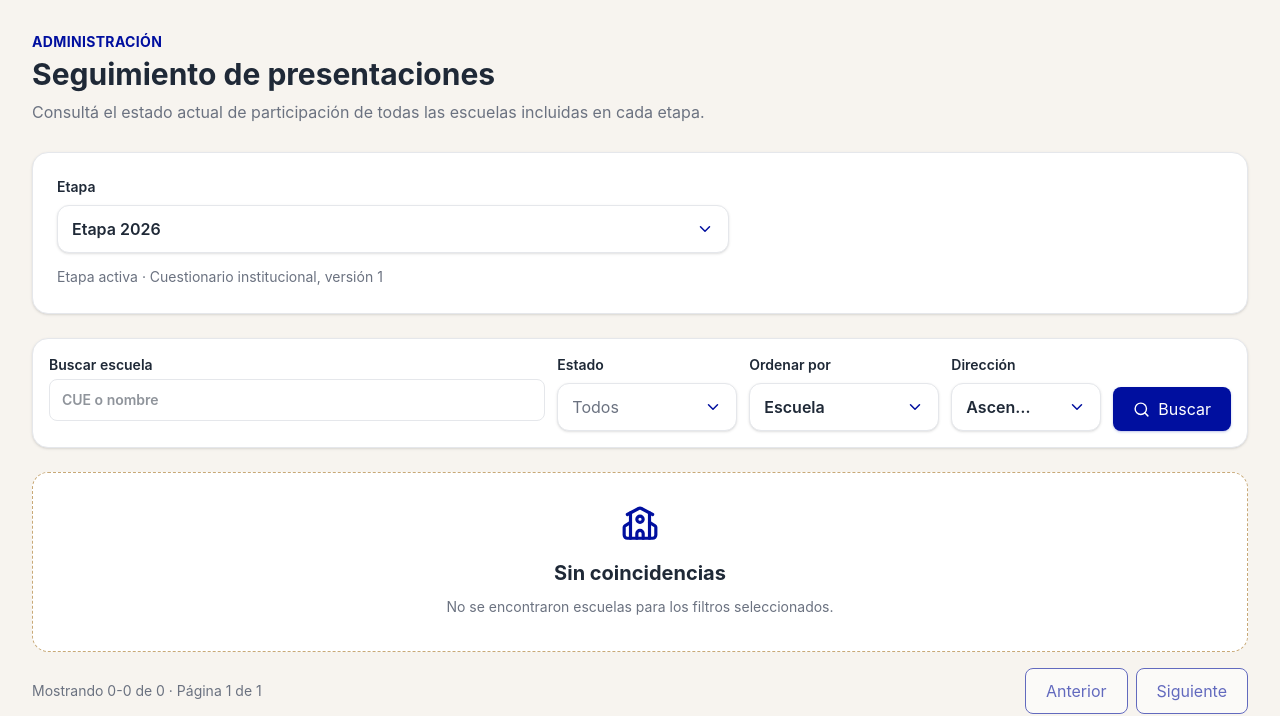
Test: CampaignTrackingPage › usa el desplegable institucional para seleccionar la etapa
Click the button "Etapa 2026". click: (116, 229)
box: [57,205,729,253]
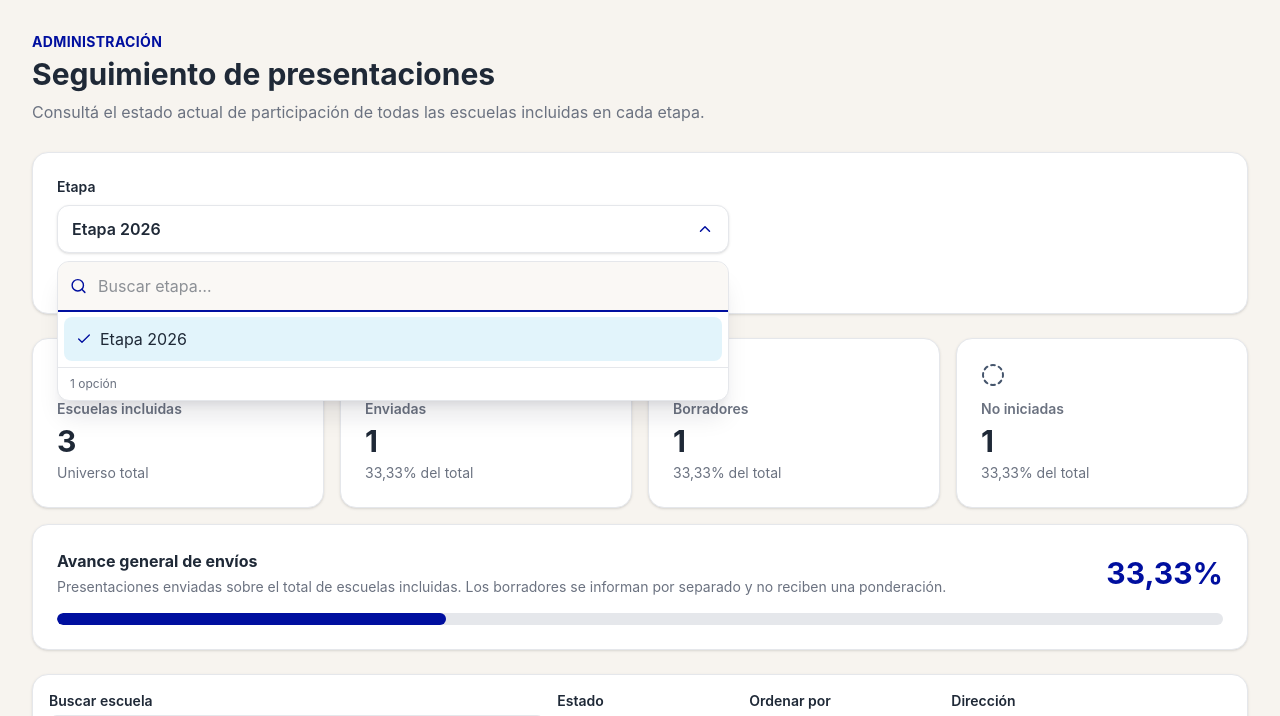
Expected: the dropdown named "Buscar en Etapa" is shown, [58,262,728,310]
